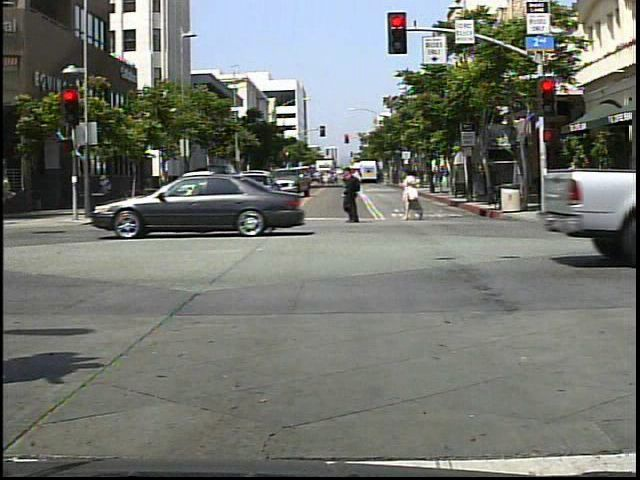person: (204, 167, 237, 226), (399, 163, 430, 223), (345, 163, 371, 226), (563, 159, 585, 209)
